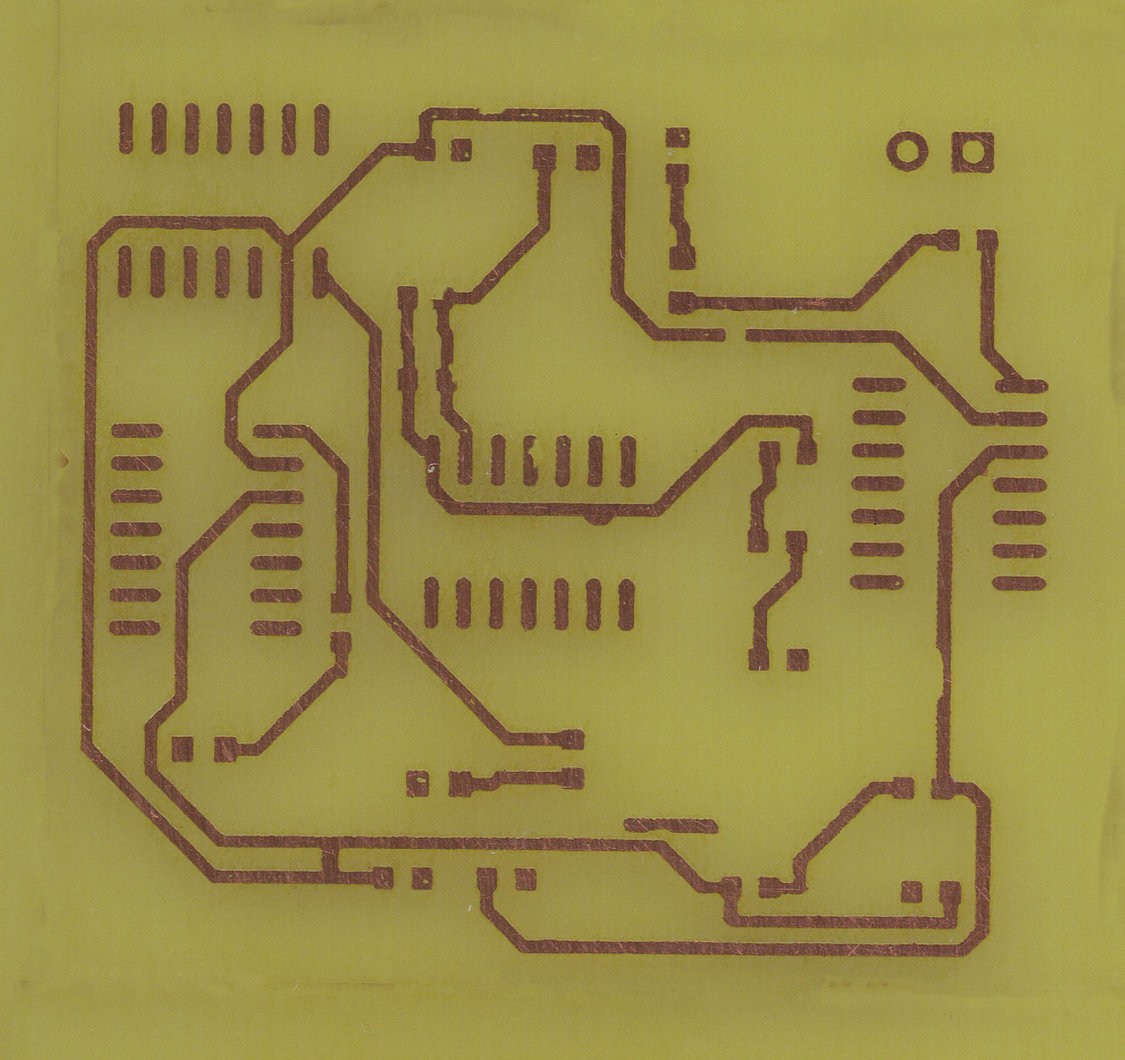missing_hole: (523, 434, 540, 487), (435, 367, 459, 392), (431, 287, 455, 311)
mouse_bite: (933, 647, 955, 705), (473, 104, 514, 125)
open_circuit: (707, 325, 762, 346)
short: (311, 834, 348, 885)
spur: (578, 500, 621, 528)
spurious_copper: (619, 815, 720, 838)
